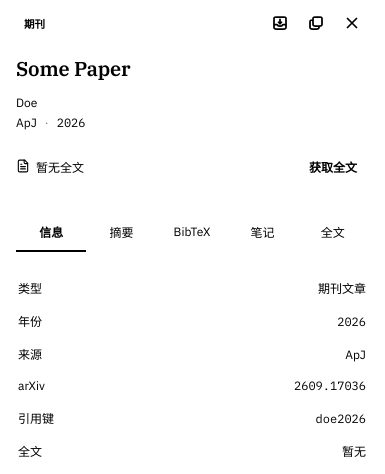
docless work with an arXiv id › a hello replay of an in-flight fetch adopts tracking after F5
Click the tab "全文" at (333, 233), box x1=298 y1=214 x2=368 y2=252
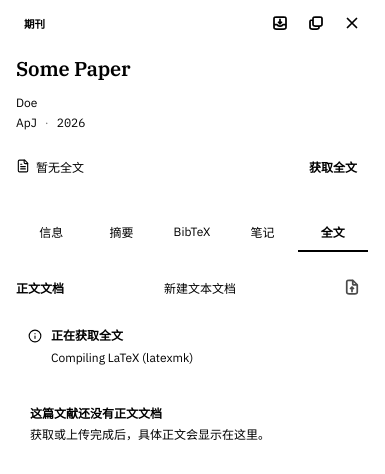
expect the text "Compiling LaTeX (latexmk)" is shown: met, box x1=51 y1=348 x2=193 y2=367
